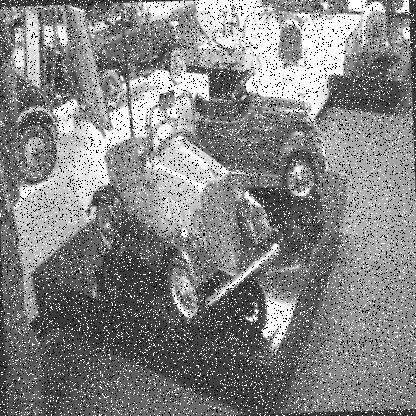Car: (13, 0, 415, 333)
